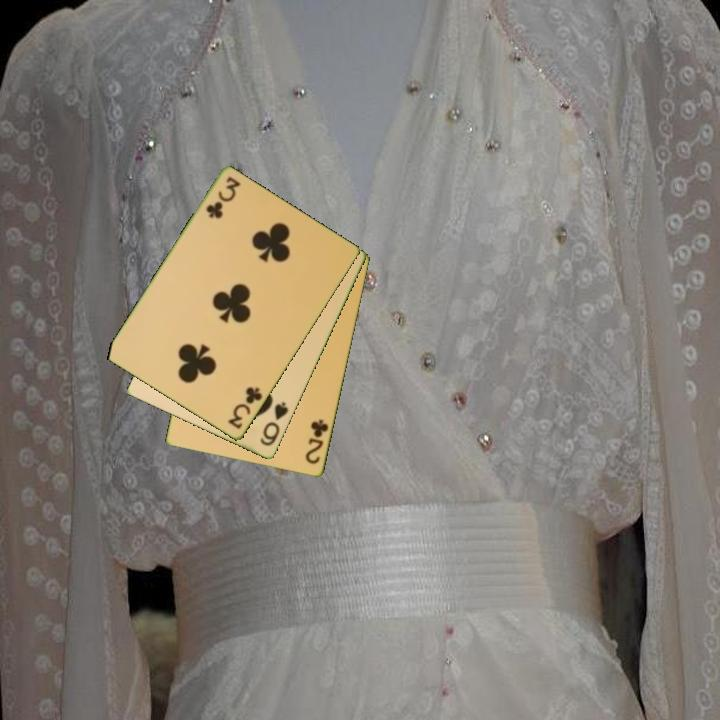2c: (302, 416, 332, 467)
3c: (224, 384, 266, 433), (202, 173, 243, 222)
6s: (256, 399, 292, 449)
